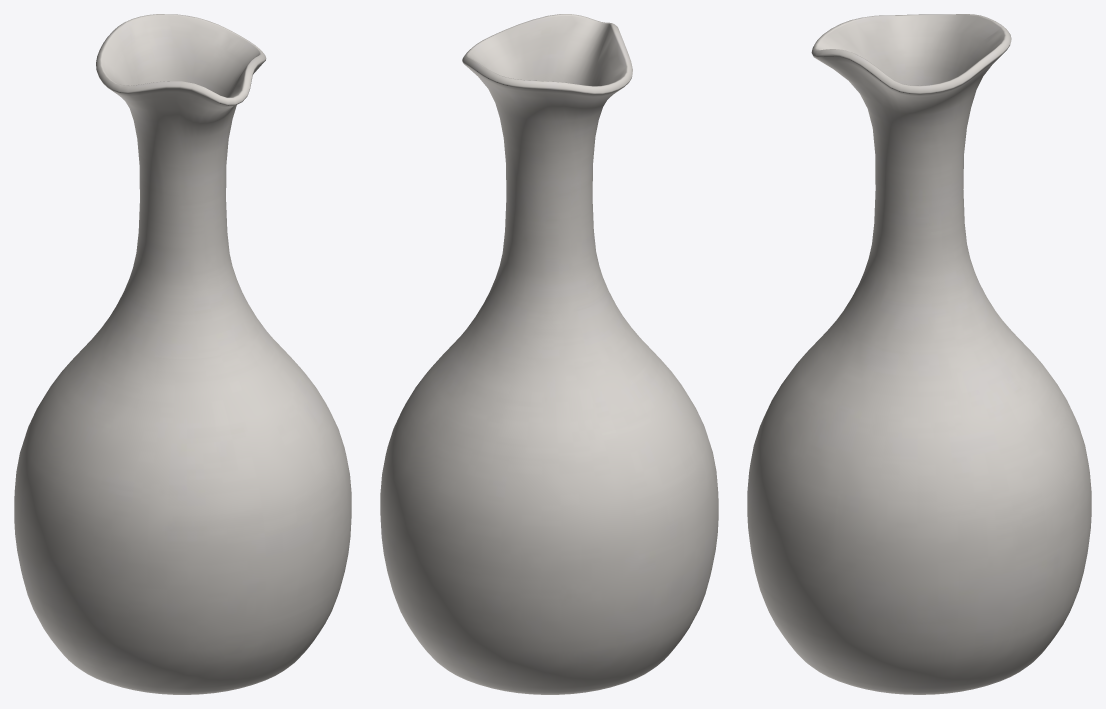
File: ceramic_vase_01.glb
The picture shows the model from 3 angles, left to right: view 1: azimuth 30°, elevation 25°; view 2: azimuth 150°, elevation 25°; view 3: azimuth 270°, elevation 25°; orthographic projection.
Visible parts, largest first — view 1: ceramic_vase_01; view 2: ceramic_vase_01; view 3: ceramic_vase_01.
Boxes of the visible parts, bbox=[...] form: ceramic_vase_01: bbox=[14, 14, 351, 694]; ceramic_vase_01: bbox=[380, 14, 718, 694]; ceramic_vase_01: bbox=[747, 14, 1091, 694].
Size of the model in its own units: 0.2036 by 0.4003 by 0.2036.
Materials: 1 (1 with a texture image).
